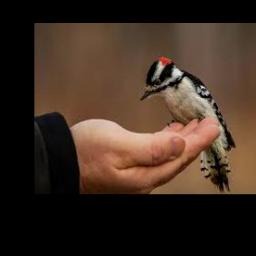Woodpecker: (140, 56, 236, 194)
